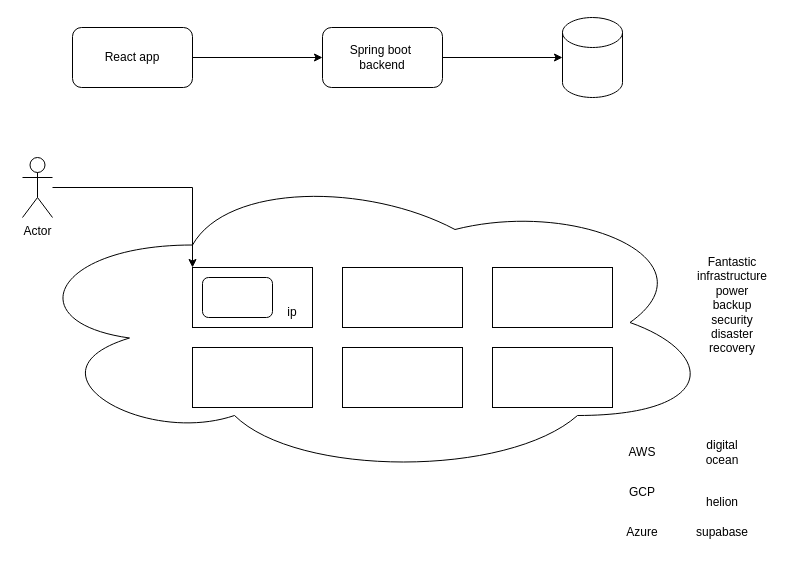
The diagram is 785 pixels wide and 565 high, and some of its shapes have lost their labels. The box of each missing label's shape, as (x1, y1, x2, y2) in pixels:
FE BE DB: (202, 276, 272, 318)
MySQL: (562, 16, 622, 98)
